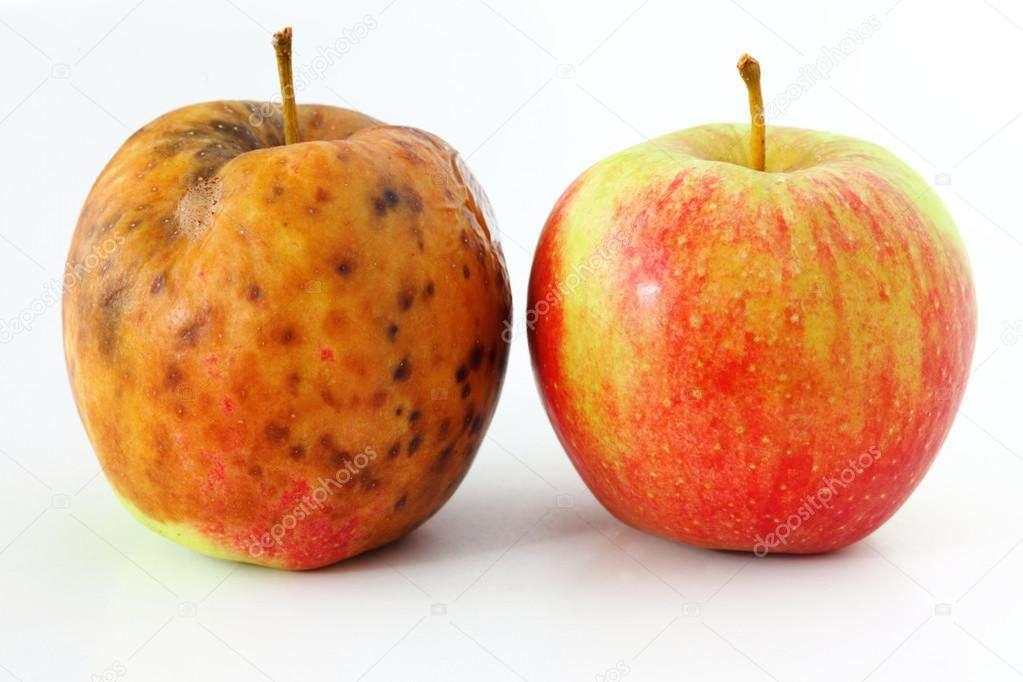Apple: (63, 105, 506, 570), (530, 126, 972, 552)
